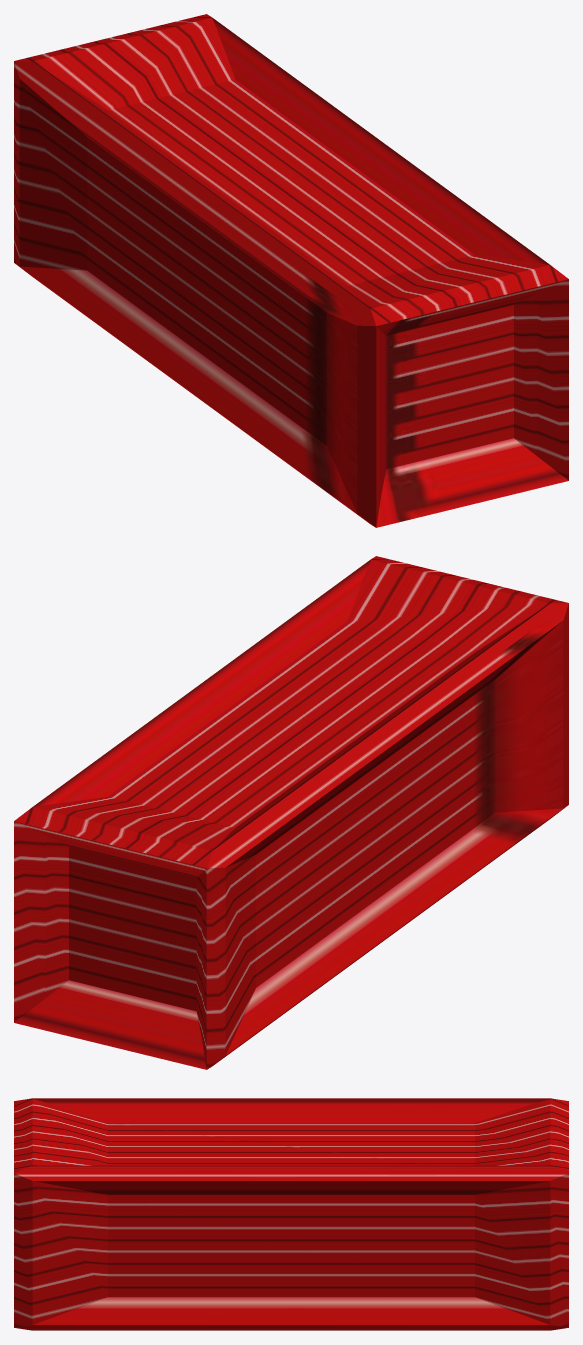
The model's file is cargocrate.fbx.
3 views of the same model, one above another, from view 1: azimuth 30°, elevation 25°; view 2: azimuth 150°, elevation 25°; view 3: azimuth 270°, elevation 25° (orthographic). The views are drawn at different scales.
Parts seen in each view (by area): view 1: Cube; view 2: Cube; view 3: Cube.
Part boxes in pixels (x1,y1,x2,y2): Cube: (14, 14, 568, 527); Cube: (14, 556, 568, 1069); Cube: (14, 1098, 568, 1330).
Bounding box in the file's own units: 1264 × 1264 × 3847.
